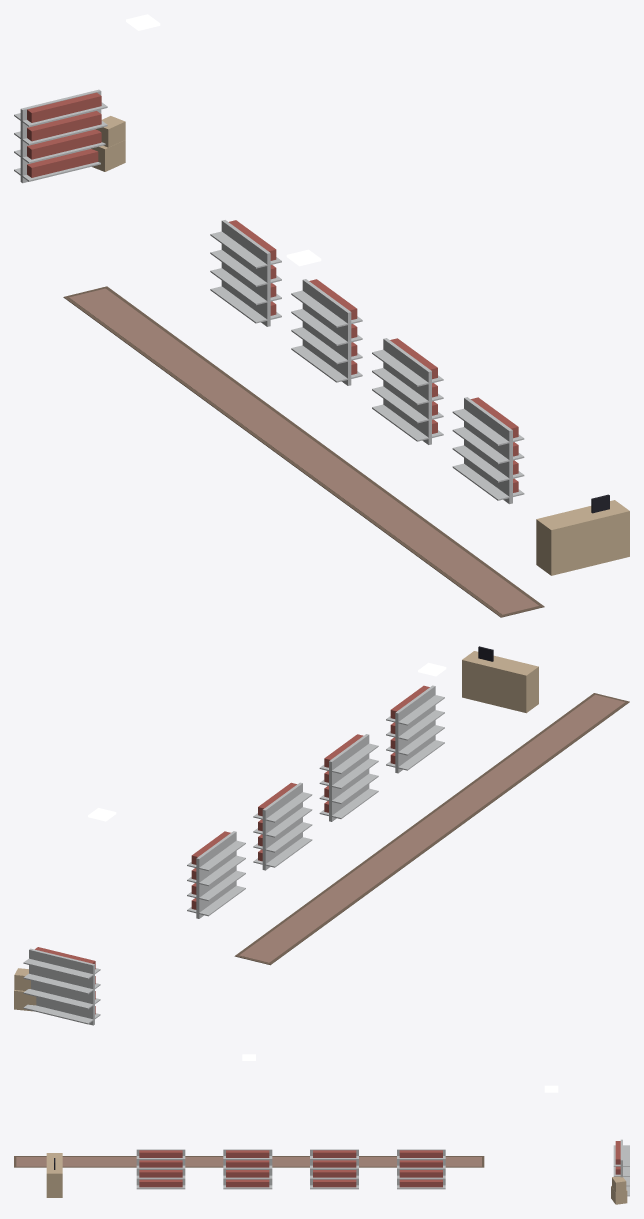
The model's file is fine-s0.glb.
3 views of the same model, one above another, from view 1: azimuth 30°, elevation 25°; view 2: azimuth 150°, elevation 25°; view 3: azimuth 270°, elevation 25° (orthographic). The views are drawn at different scales.
Visible parts, largest first — view 1: soft-s0, shelving.000, shop-counter.000, shelf.001, shelf.000, shelf.003, shelf.002, cardboard-box.000; view 2: soft-s0, shelving.000, shop-counter.000, shelf.000, shelf.002, shelf.003, shelf.001, cardboard-box.000; view 3: soft-s0, shelf.002, shelf.003, shelf.000, shelf.001, shop-counter.000, shelving.000, cardboard-box.000.
Part boxes in pixels (<box>): soft-s0: <box>63,286,544,617</box>; shelving.000: <box>14,89,107,183</box>; shop-counter.000: <box>536,494,629,575</box>; shelf.001: <box>291,279,362,385</box>; shelf.000: <box>210,220,281,326</box>; shelf.003: <box>452,397,524,504</box>; shelf.002: <box>372,338,443,444</box>; cardboard-box.000: <box>91,116,125,171</box>; soft-s0: <box>234,693,629,965</box>; shelving.000: <box>23,947,100,1025</box>; shop-counter.000: <box>462,646,538,713</box>; shelf.000: <box>187,831,245,918</box>; shelf.002: <box>319,734,378,821</box>; shelf.003: <box>386,685,444,773</box>; shelf.001: <box>253,782,312,870</box>; cardboard-box.000: <box>14,968,36,1011</box>; soft-s0: <box>14,1156,484,1167</box>; shelf.002: <box>223,1149,272,1189</box>; shelf.003: <box>136,1149,185,1189</box>; shelf.000: <box>397,1149,445,1189</box>; shelf.001: <box>310,1149,358,1189</box>; shop-counter.000: <box>46,1153,62,1197</box>; shelving.000: <box>613,1139,629,1196</box>; cardboard-box.000: <box>611,1176,627,1204</box>.
Bounding box in the file's own units: 4.23 × 4.28 × 22.73.
